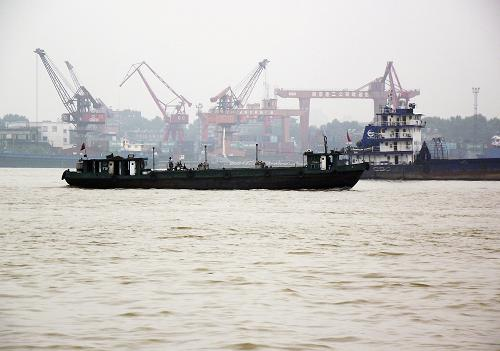Cargoship: (62, 130, 372, 193), (329, 82, 500, 186)
